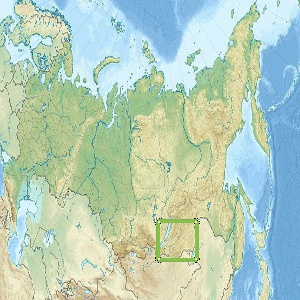square: (155, 218, 200, 264)
